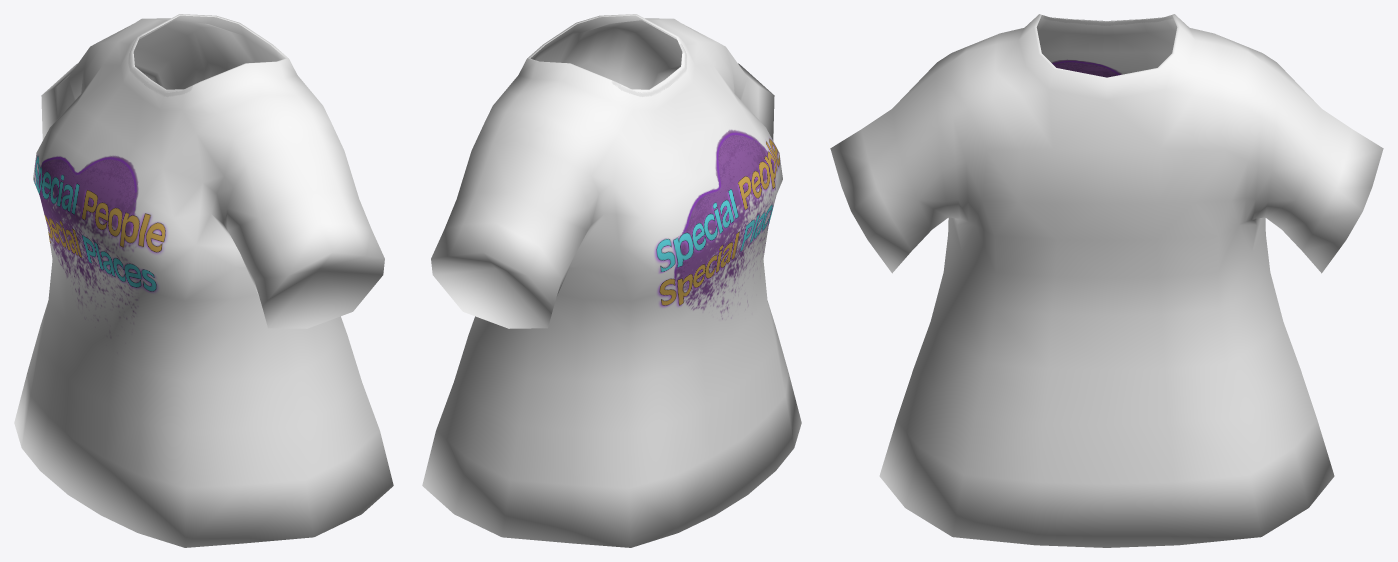
Rendered from shirt_special.gltf.
3 renders of one model, left to right at view 1: azimuth 30°, elevation 25°; view 2: azimuth 150°, elevation 25°; view 3: azimuth 270°, elevation 25°, orthographic. The views are drawn at different scales.
Parts seen in each view (by area): view 1: Tshirt; view 2: Tshirt; view 3: Tshirt.
Part boxes in pixels (x1=…): Tshirt: x1=14, y1=14, x2=393, y2=547; Tshirt: x1=422, y1=14, x2=801, y2=547; Tshirt: x1=830, y1=14, x2=1383, y2=547.
Size of the model in its own units: 0.2398 by 0.3579 by 0.3941.
Materials: 1 (1 with a texture image).
